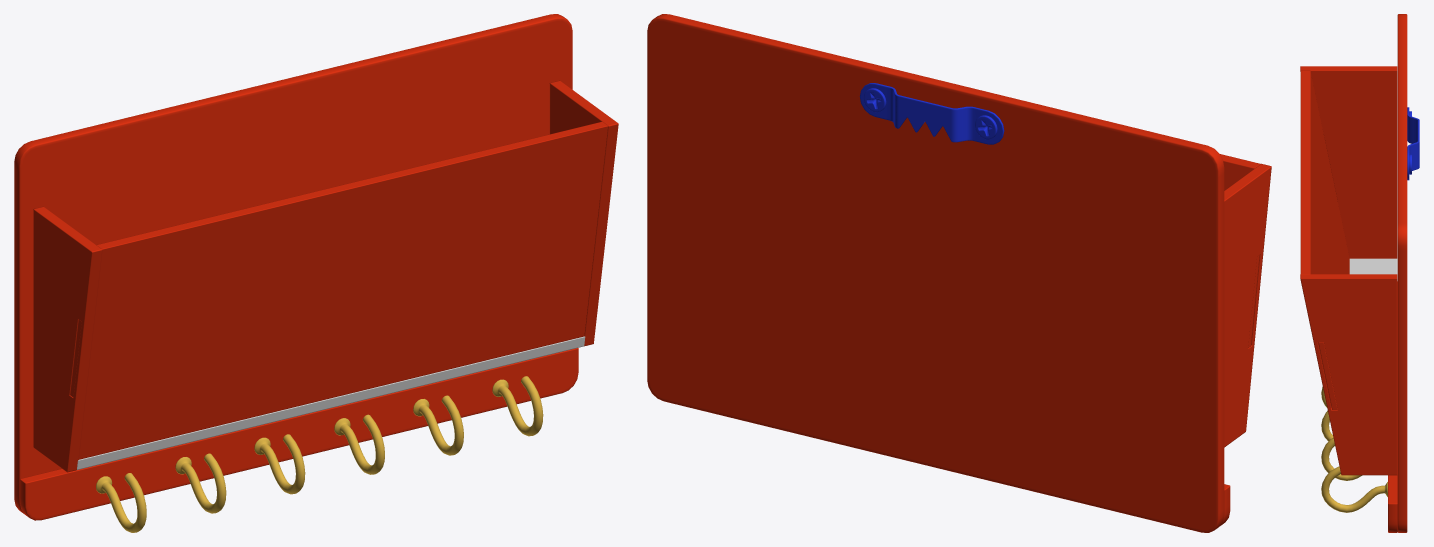
The model's file is Key_Hanger.fbx.
The picture shows the model from 3 angles, left to right: view 1: azimuth 30°, elevation 25°; view 2: azimuth 150°, elevation 25°; view 3: azimuth 270°, elevation 25°; orthographic projection. The views are drawn at different scales.
Visible parts, largest first — view 1: Key_Hanger; view 2: Key_Hanger; view 3: Key_Hanger.
Part boxes in pixels (bbox=[...]): Key_Hanger: bbox=[14, 14, 618, 532]; Key_Hanger: bbox=[647, 14, 1271, 532]; Key_Hanger: bbox=[1300, 14, 1419, 532].
Size of the model in its own units: 30.56 by 19.97 by 6.92.
